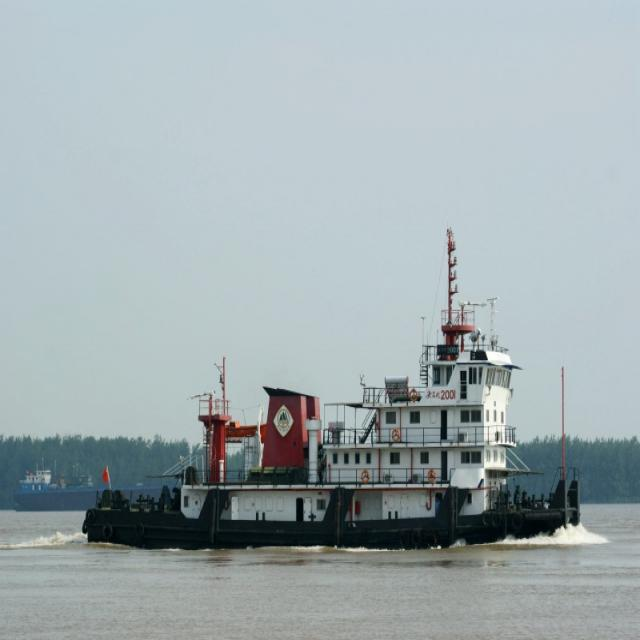tugboat: (80, 224, 585, 558)
